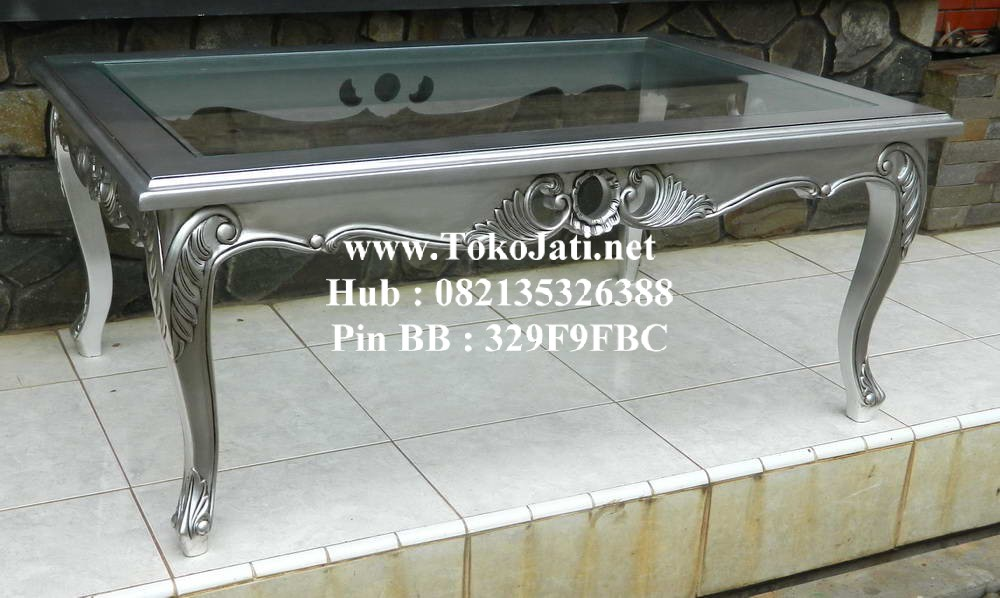Carving Table: (39, 35, 944, 459)
